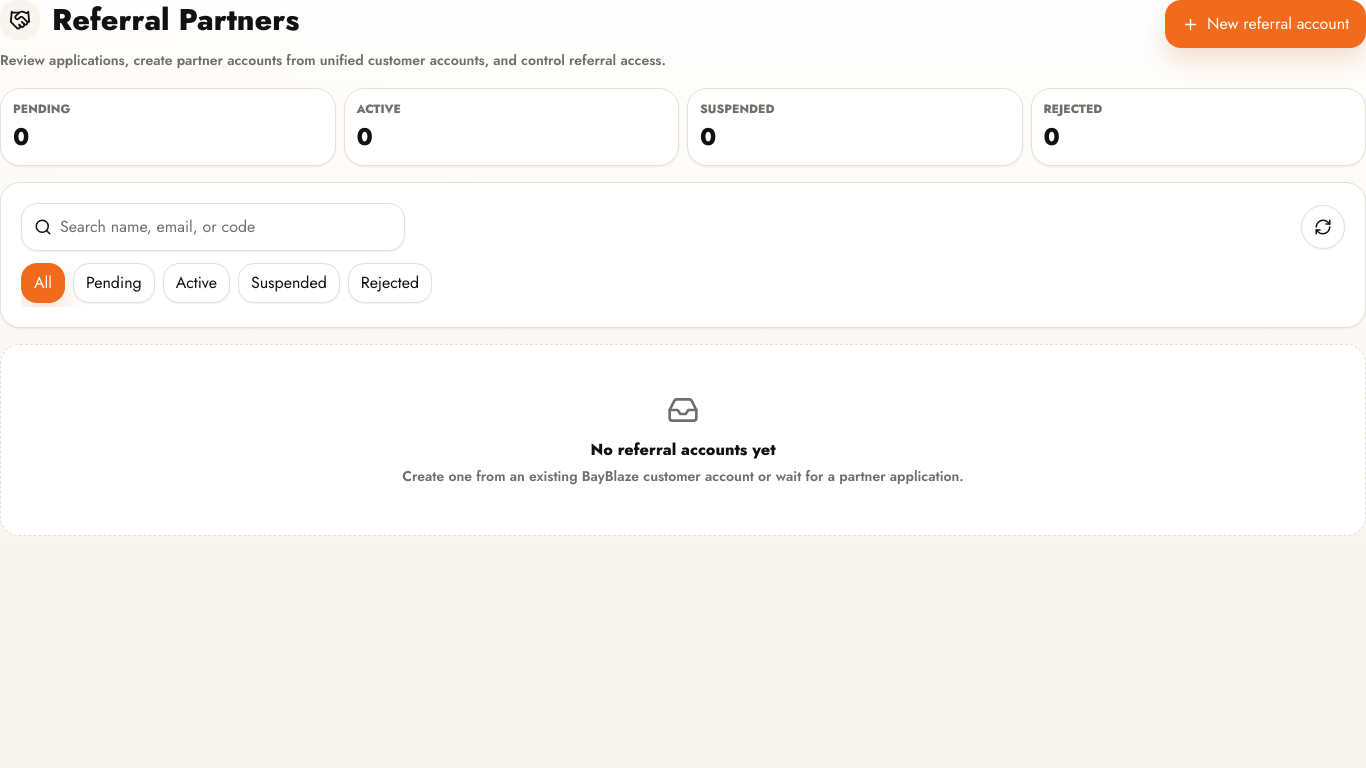
Test: referral partner administration › closes an untouched creation flow without an unsaved-change warning
Click the button "New referral account".
click(1266, 24)  # box [1165, 0, 1365, 48]
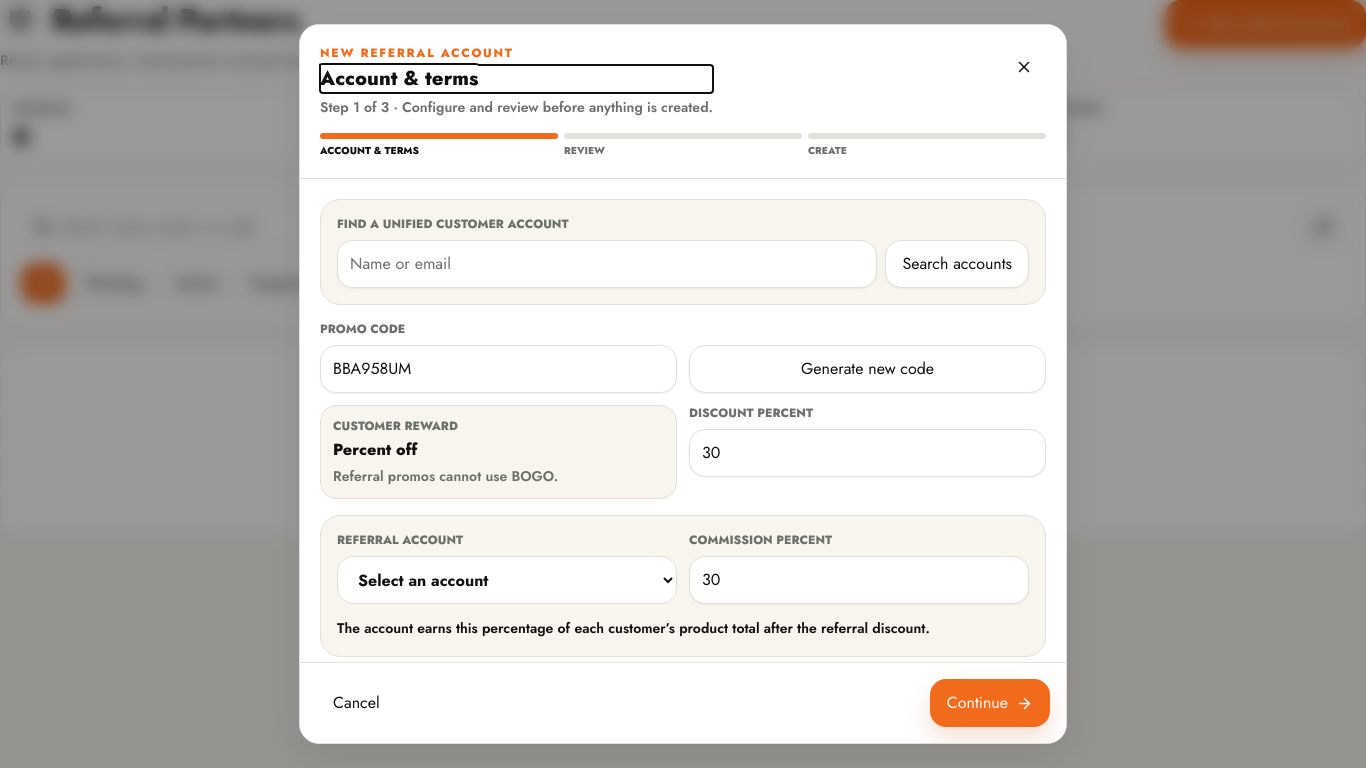
Click the button "Cancel".
click(356, 703)  # box [316, 679, 397, 727]
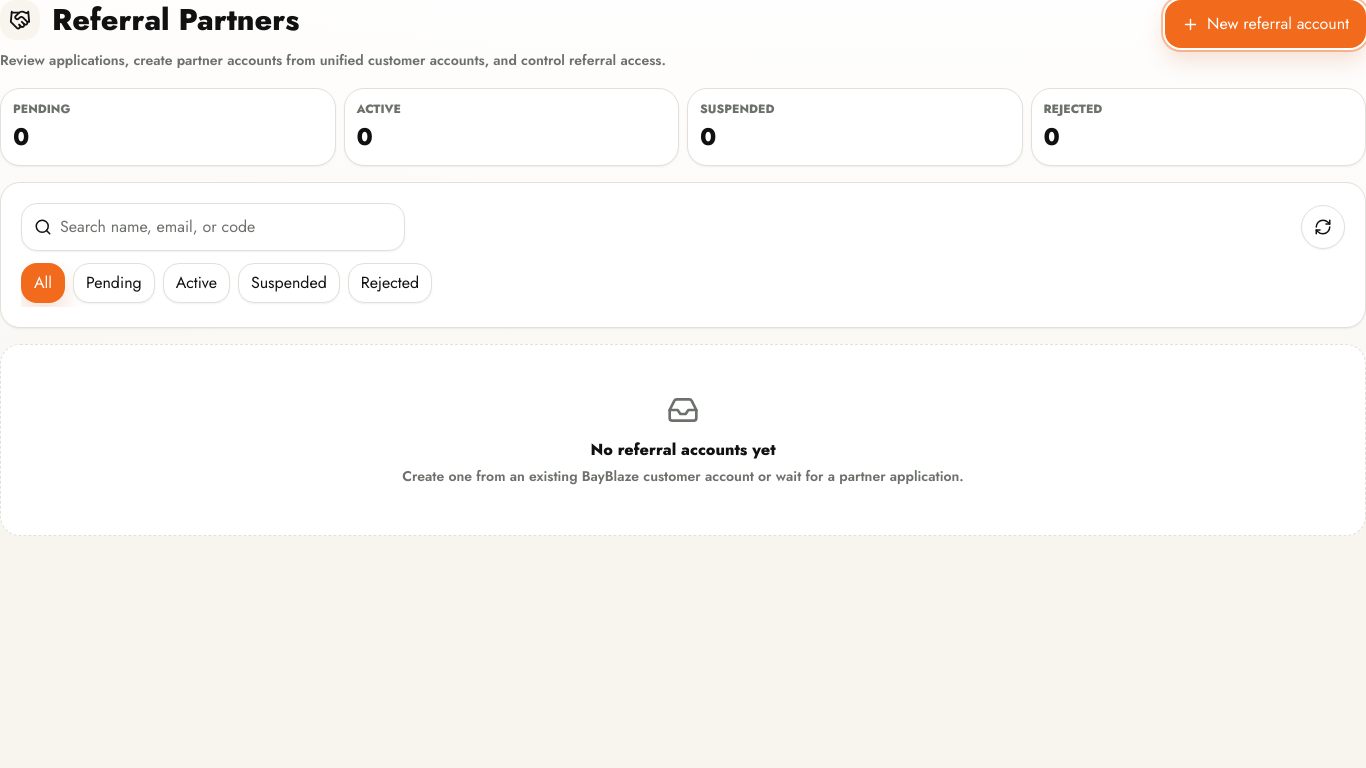
Result: the dialog is gone
